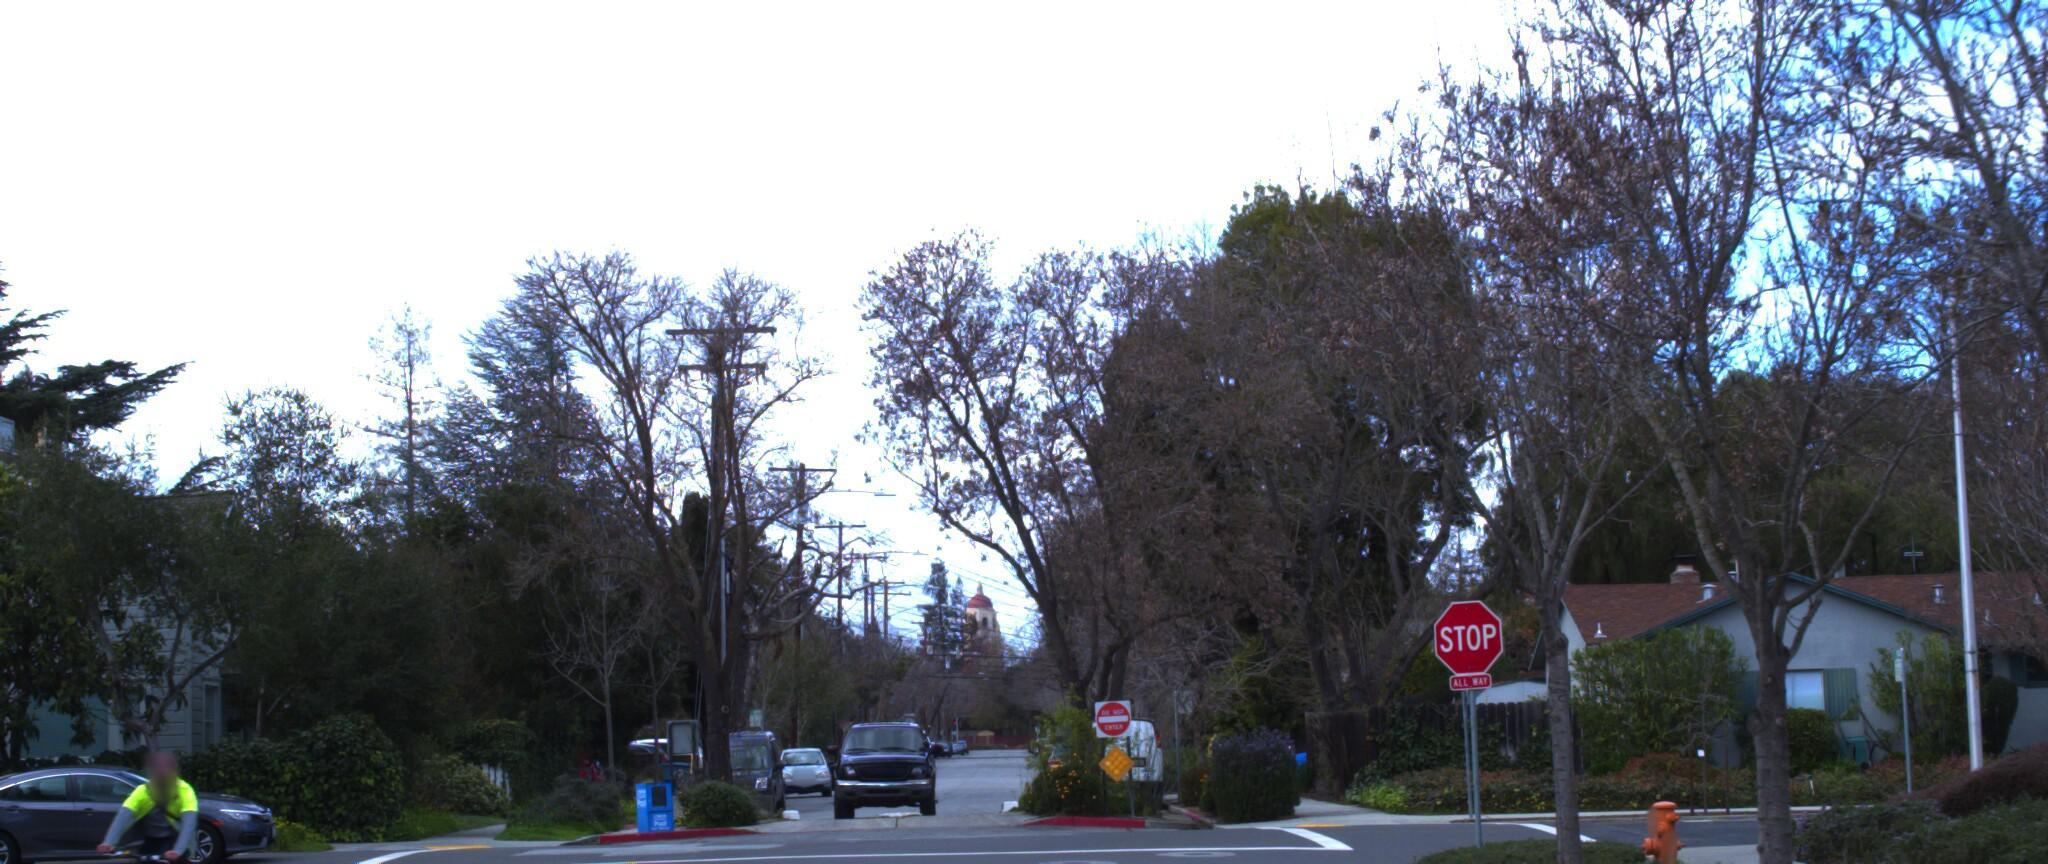bicycle: (59, 758, 255, 864)
car: (0, 749, 278, 864), (0, 764, 178, 864), (818, 703, 948, 812)
